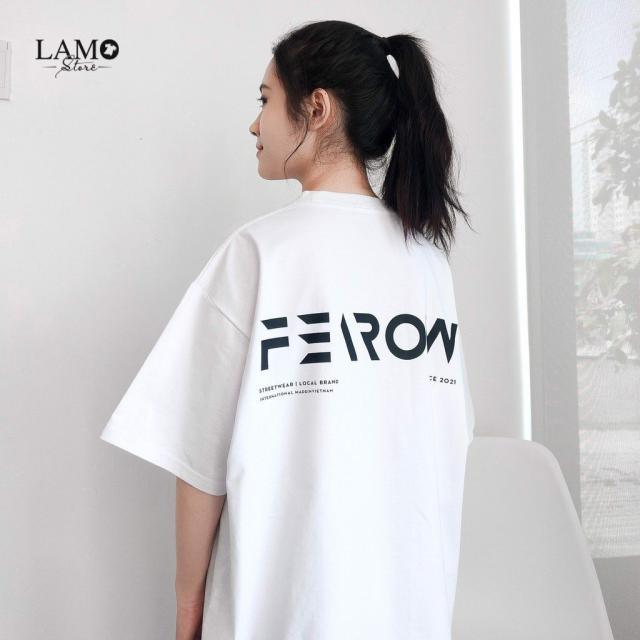Shirt: (97, 185, 475, 640)
